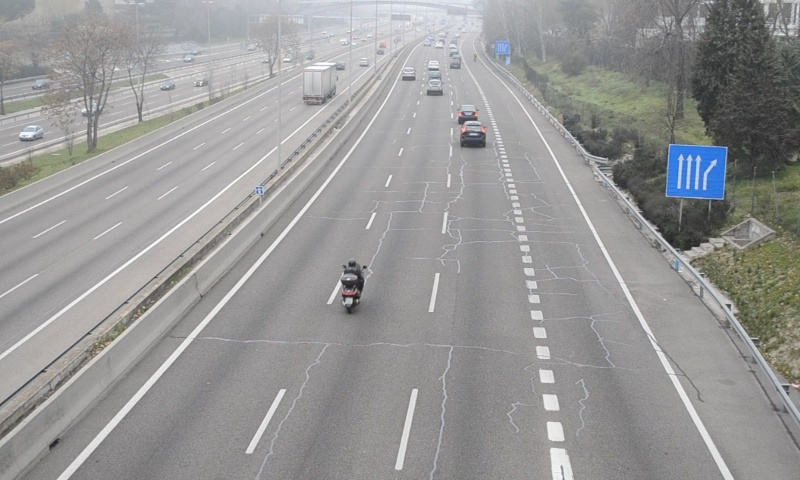car: (459, 121, 487, 147), (456, 104, 478, 123), (425, 78, 443, 96)
motorcycle: (339, 258, 365, 313)
